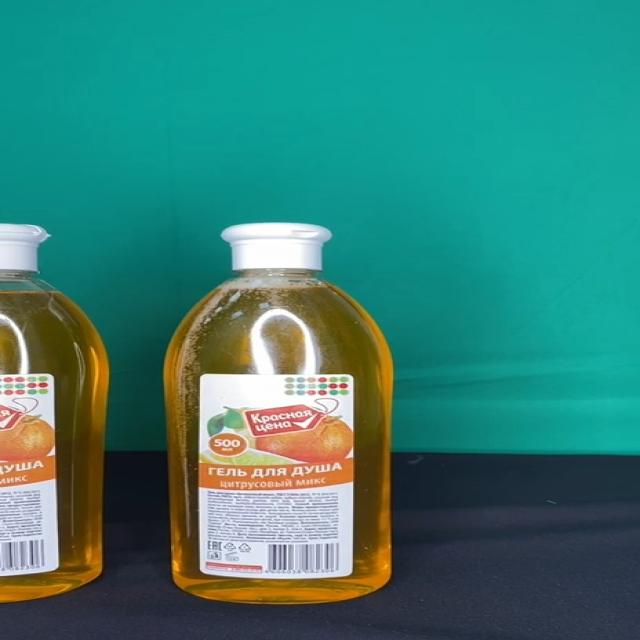Bottle: (165, 221, 396, 604)
Cap: (220, 222, 332, 271)
